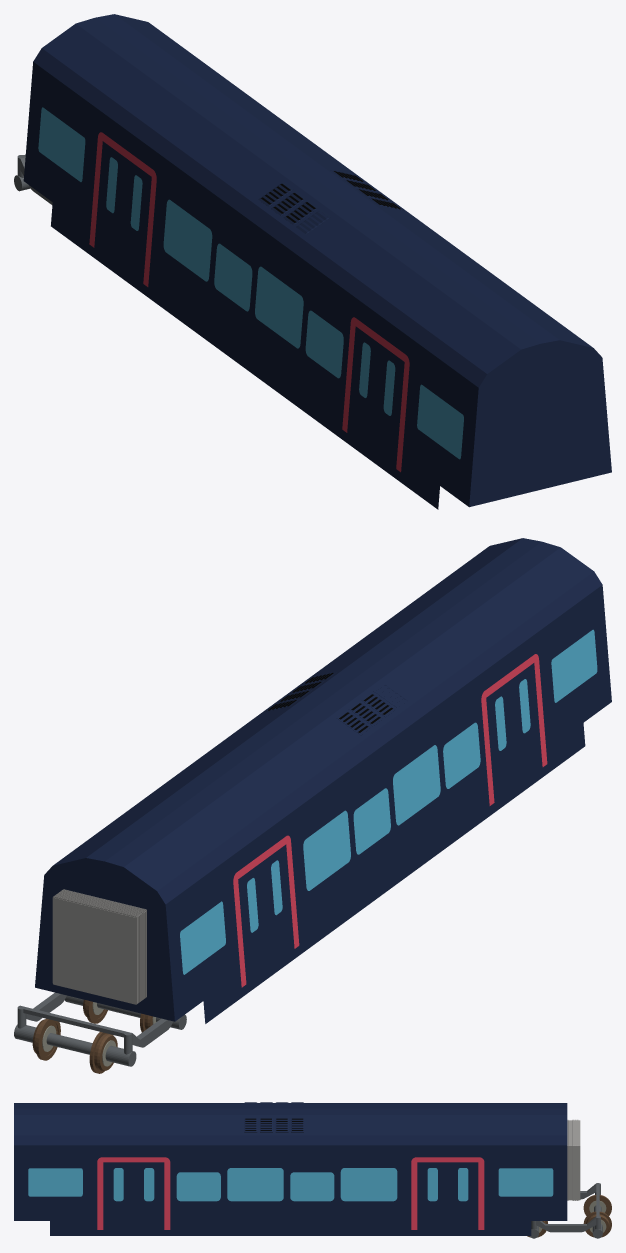
Rendered from type_76_wagon_3.fbx.
The picture shows the model from 3 angles, top to bottom: view 1: azimuth 30°, elevation 25°; view 2: azimuth 150°, elevation 25°; view 3: azimuth 270°, elevation 25°; orthographic projection. The views are drawn at different scales.
Parts seen in each view (by area): view 1: Wagon 3; view 2: Wagon 3; view 3: Wagon 3.
Boxes of the visible parts, box(x1,y1,x2,y2) form: Wagon 3: box(14, 14, 611, 509); Wagon 3: box(14, 538, 611, 1073); Wagon 3: box(14, 1102, 611, 1238).
Size of the model in its own units: 341 by 426 by 1941.
